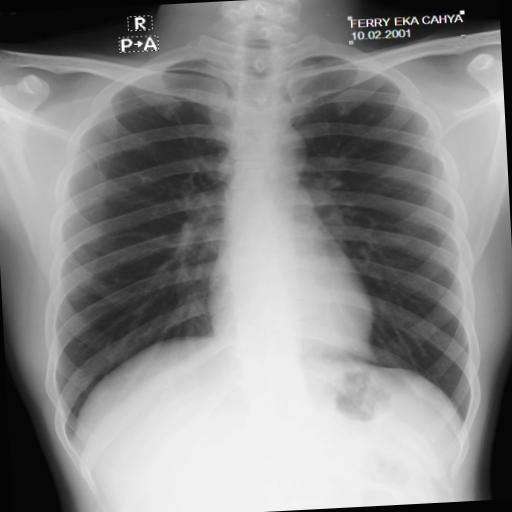normal: (18, 15, 492, 460)
